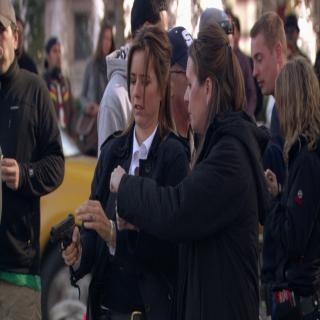gun: (46, 207, 84, 282)
